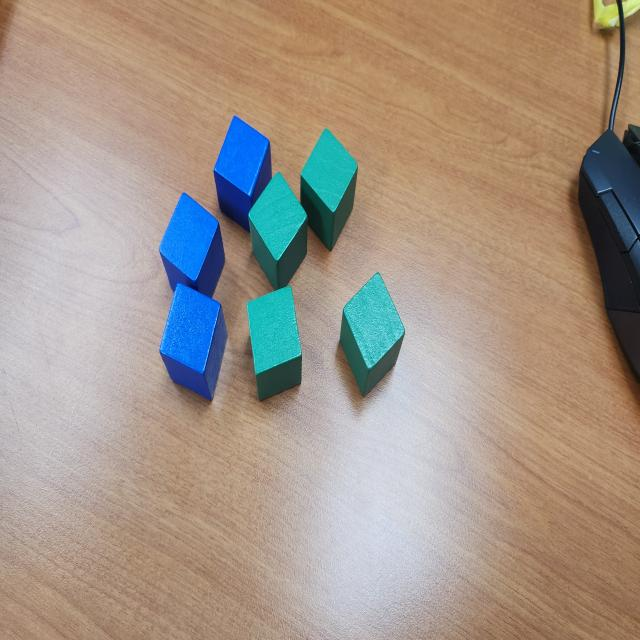blue: (160, 283, 228, 402), (159, 193, 225, 298), (214, 116, 272, 234)
green: (339, 272, 406, 398), (299, 127, 359, 253), (248, 172, 308, 292), (245, 284, 302, 402)
